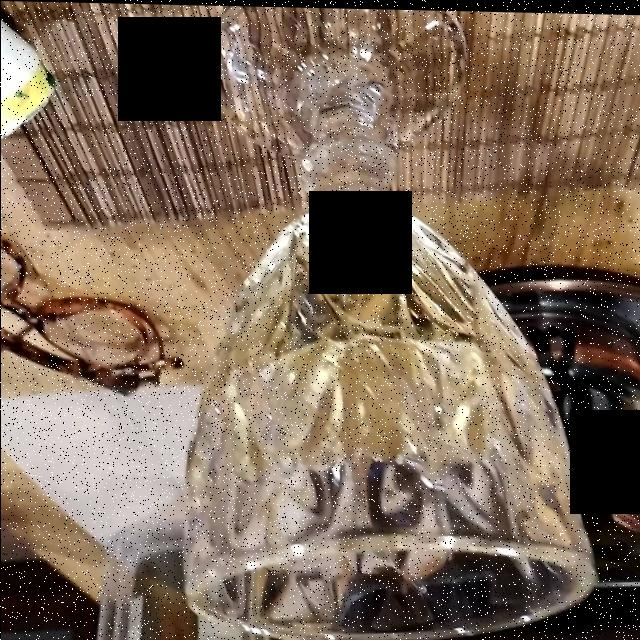wine-white: (223, 194, 559, 481)
